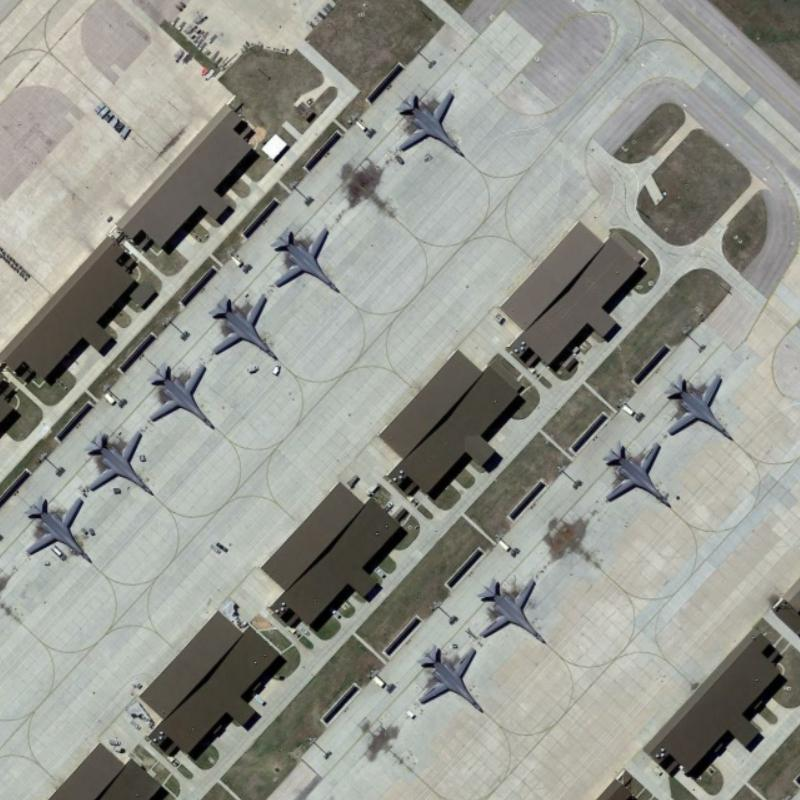A10: (658, 365, 741, 446), (21, 491, 102, 570), (471, 571, 550, 652), (264, 221, 350, 295), (596, 434, 678, 510), (413, 640, 489, 720), (142, 357, 220, 433), (205, 288, 282, 362), (83, 428, 157, 499), (394, 90, 464, 157)
